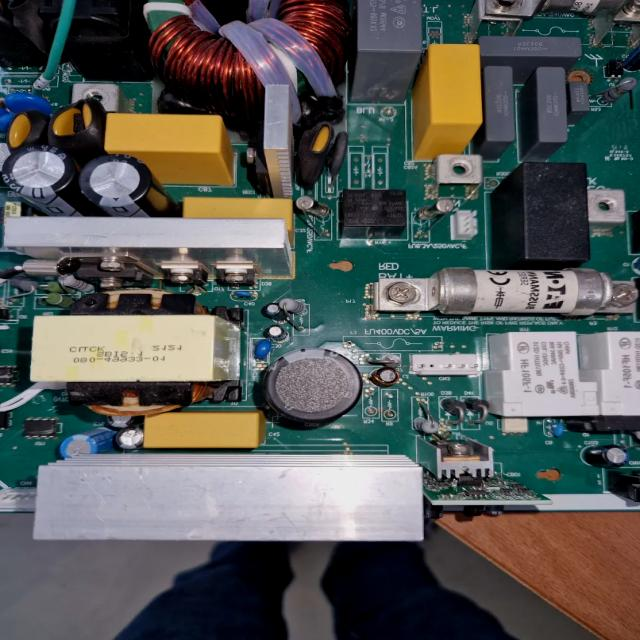A: (143, 0, 353, 112)
B: (372, 268, 638, 312), (468, 0, 640, 42)
C: (265, 348, 362, 424), (80, 154, 158, 217), (2, 146, 78, 208)
G: (33, 456, 421, 542), (4, 220, 290, 276)
